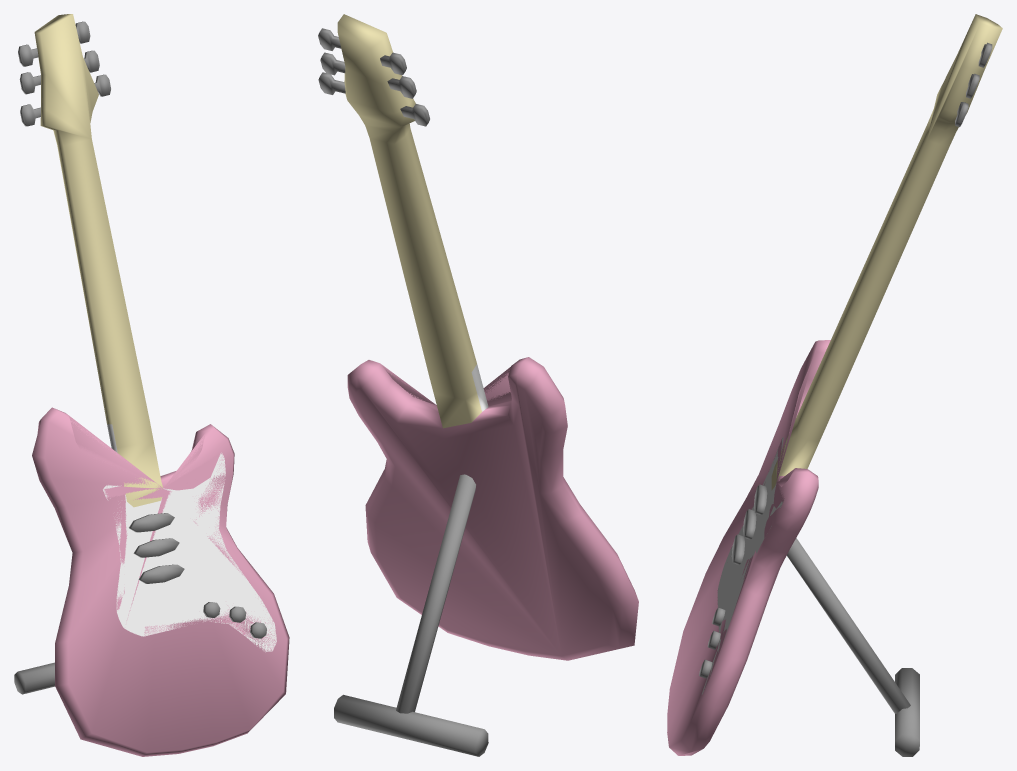
File: pink guitar.fbx
3 renders of one model, left to right at view 1: azimuth 30°, elevation 25°; view 2: azimuth 150°, elevation 25°; view 3: azimuth 270°, elevation 25°, orthographic. The views are drawn at different scales.
Parts seen in each view (by area): view 1: Cube; view 2: Cube; view 3: Cube.
Part boxes in pixels (x1,y1,x2,y2): Cube: [14, 14, 289, 756]; Cube: [318, 14, 638, 756]; Cube: [667, 14, 1002, 756].
Size of the model in its own units: 32.35 by 84.23 by 35.83.
